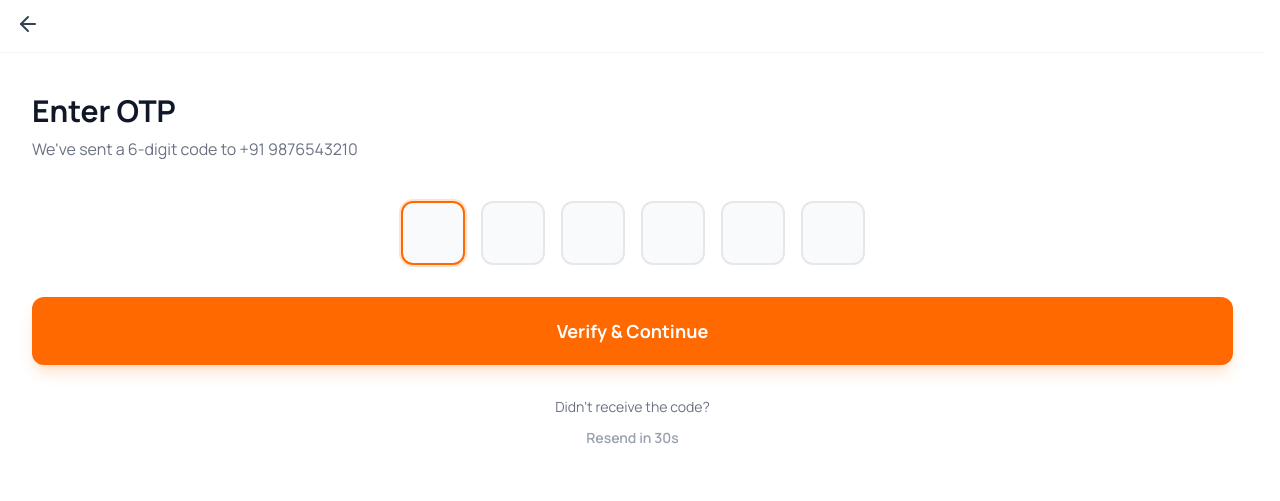
Test: OTP entry › wrong code shows the server message
The image size is (1280, 501).
In the 1st field: (432, 233) x1=400 y1=201 x2=464 y2=265, type "0"
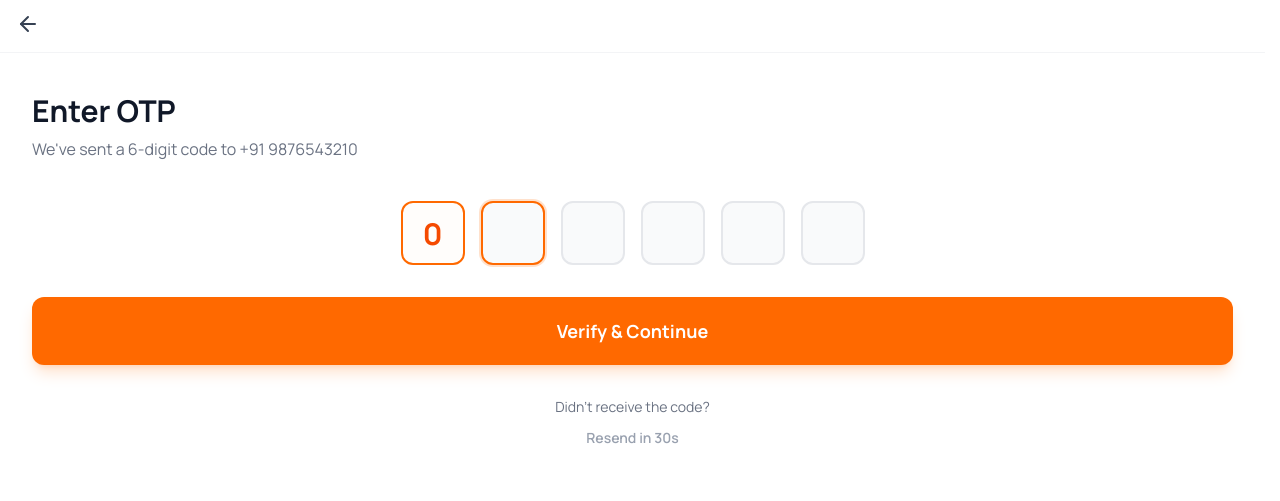
In the 2nd field: (512, 233) x1=480 y1=201 x2=544 y2=265, type "0"
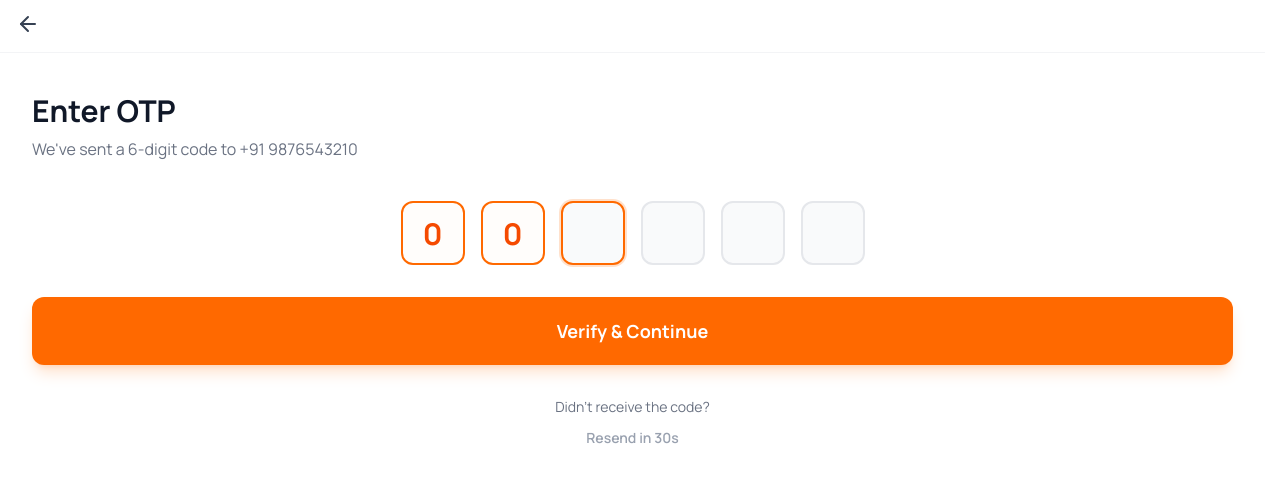
In the 3rd field: (592, 233) x1=560 y1=201 x2=624 y2=265, type "0"
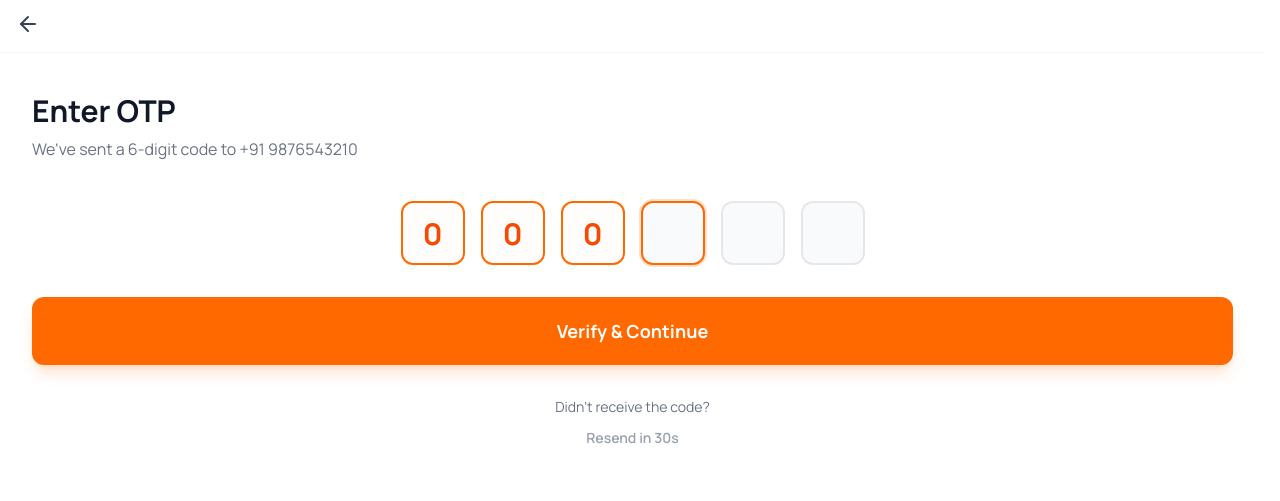
In the 4th field: (672, 233) x1=640 y1=201 x2=704 y2=265, type "0"
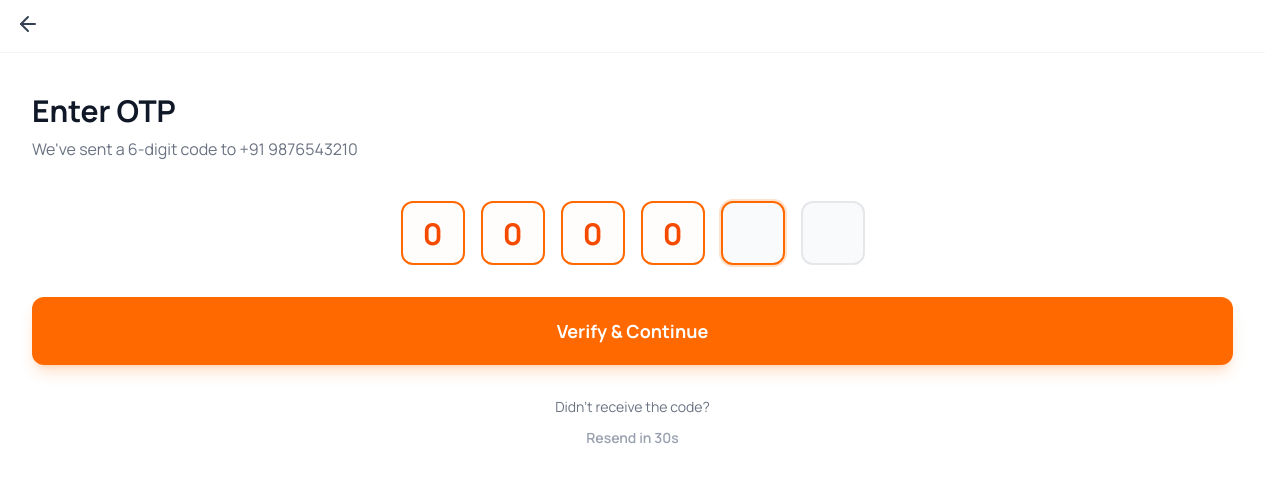
In the 5th field: (752, 233) x1=720 y1=201 x2=784 y2=265, type "0"
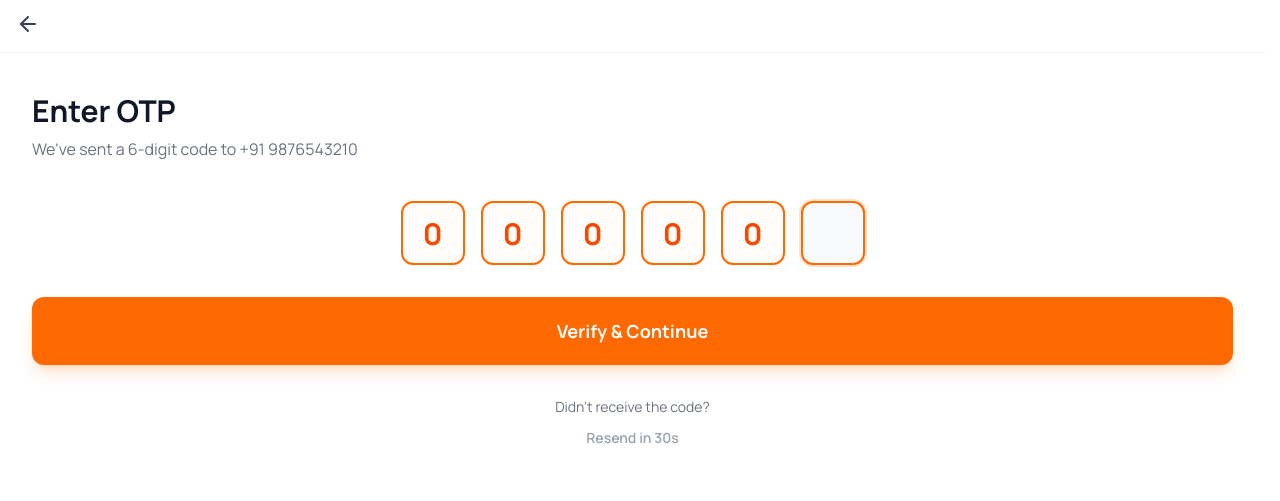
In the 6th field: (832, 233) x1=800 y1=201 x2=864 y2=265, type "0"
Wait 150 ms
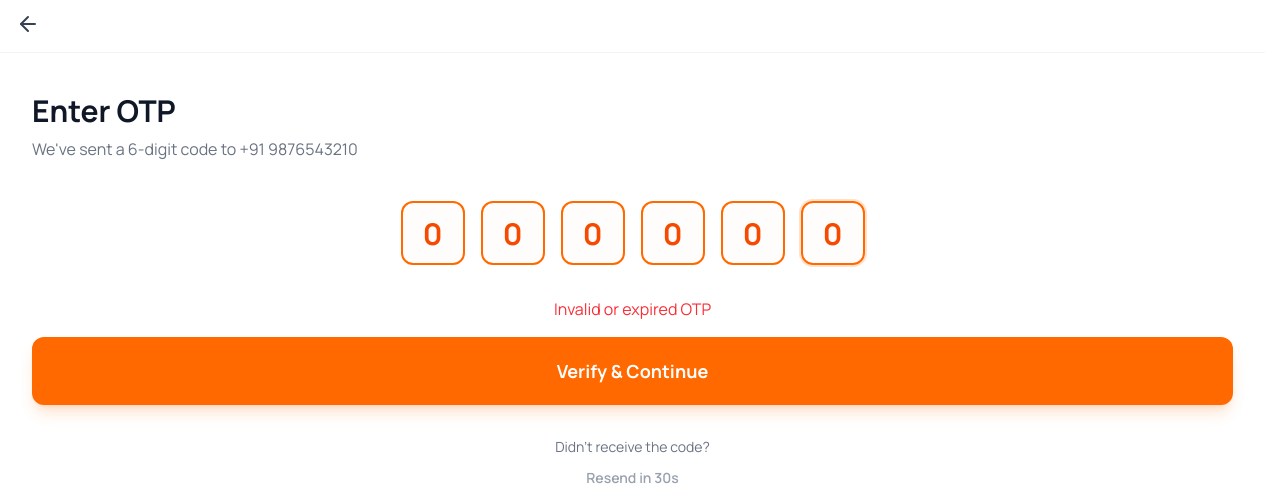
Check: the text "Invalid or expired OTP" is shown, box x1=554 y1=298 x2=711 y2=320
